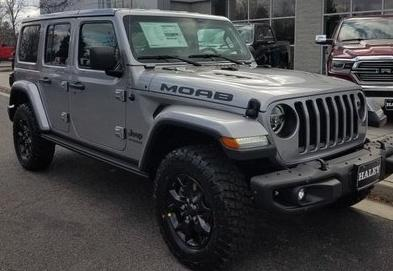SUV: (9, 10, 393, 269)
